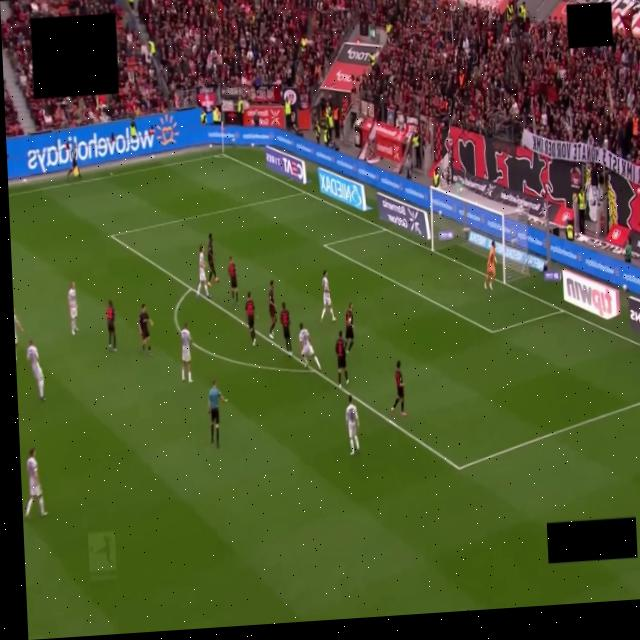player: (25, 447, 46, 517), (27, 340, 44, 400), (299, 324, 320, 370), (345, 395, 359, 455), (391, 361, 406, 415), (320, 270, 335, 321), (279, 302, 293, 356), (196, 245, 210, 298), (335, 330, 348, 387), (138, 304, 152, 354), (180, 324, 191, 383), (227, 256, 239, 306), (244, 292, 255, 345), (207, 234, 218, 286), (484, 241, 495, 289), (67, 283, 77, 335), (106, 301, 116, 352), (268, 280, 276, 339), (14, 310, 22, 359), (345, 303, 353, 352)
referee: (208, 380, 225, 448)
